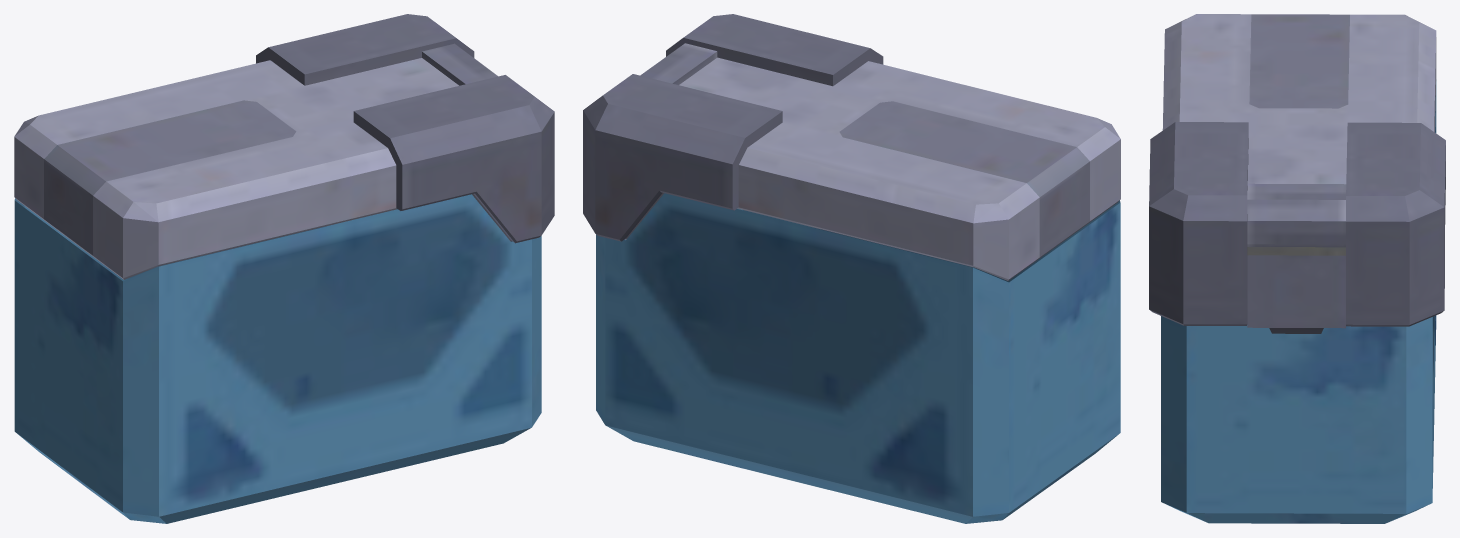
The model's file is Demo_xiangzi03.FBX.
3 renders of one model, left to right at view 1: azimuth 30°, elevation 25°; view 2: azimuth 150°, elevation 25°; view 3: azimuth 270°, elevation 25°, orthographic.
Visible parts, largest first — view 1: Demo_xiangzi03; view 2: Demo_xiangzi03; view 3: Demo_xiangzi03.
Boxes of the visible parts, left/top/right/bottom form: Demo_xiangzi03: left=14, top=14, right=554, bottom=523; Demo_xiangzi03: left=583, top=14, right=1120, bottom=523; Demo_xiangzi03: left=1149, top=14, right=1445, bottom=523.
Bounding box in the file's own units: 0.5708 × 0.4255 × 0.344.
